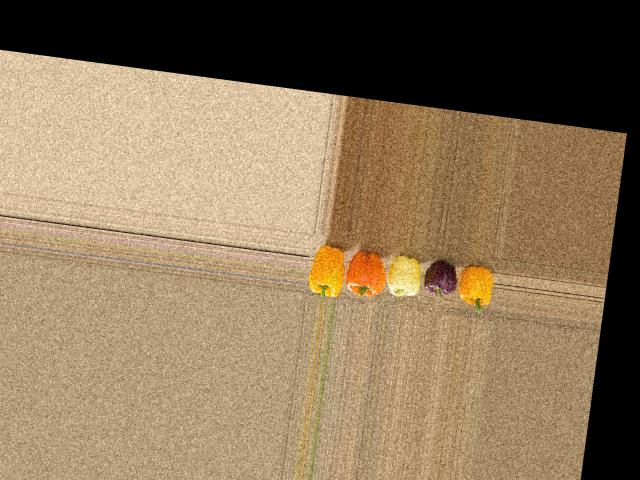bell_pepper: (459, 256, 499, 315)
